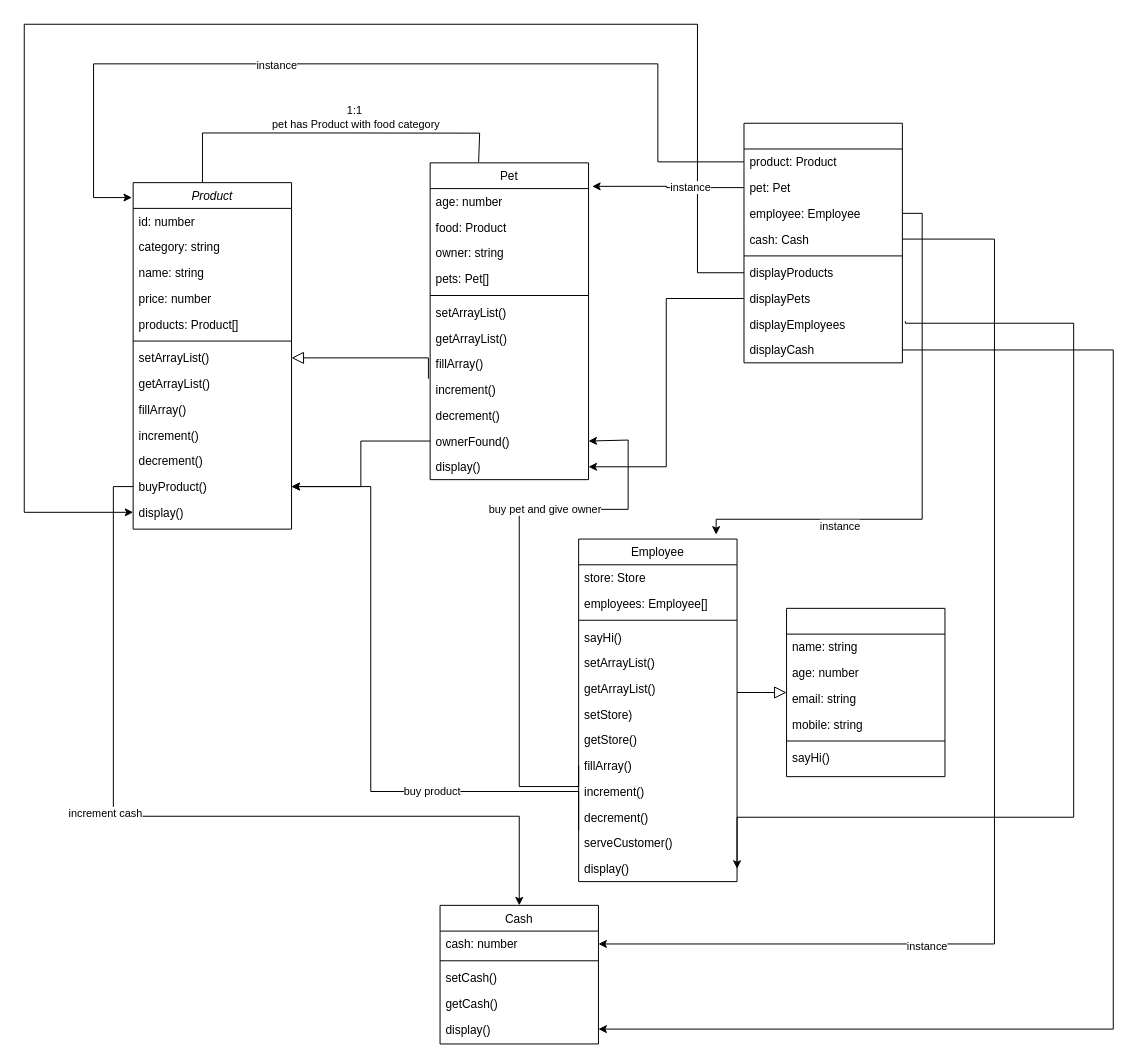
The diagram is 1139 pixels wide and 1062 high, and some of its shapes have lost their labels. The box of each missing label's shape, as (x1, y1, x2, y2) in pixels:
Person: (786, 607, 945, 777)
Store: (743, 122, 902, 363)
